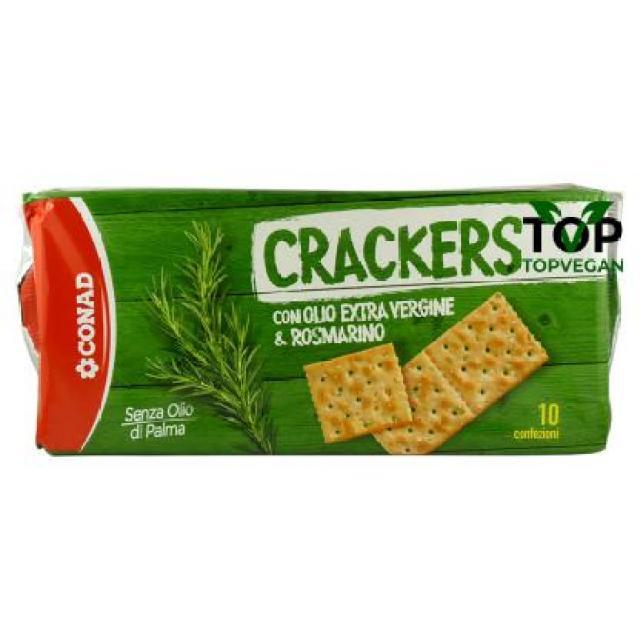Cracker: (16, 175, 639, 468)
